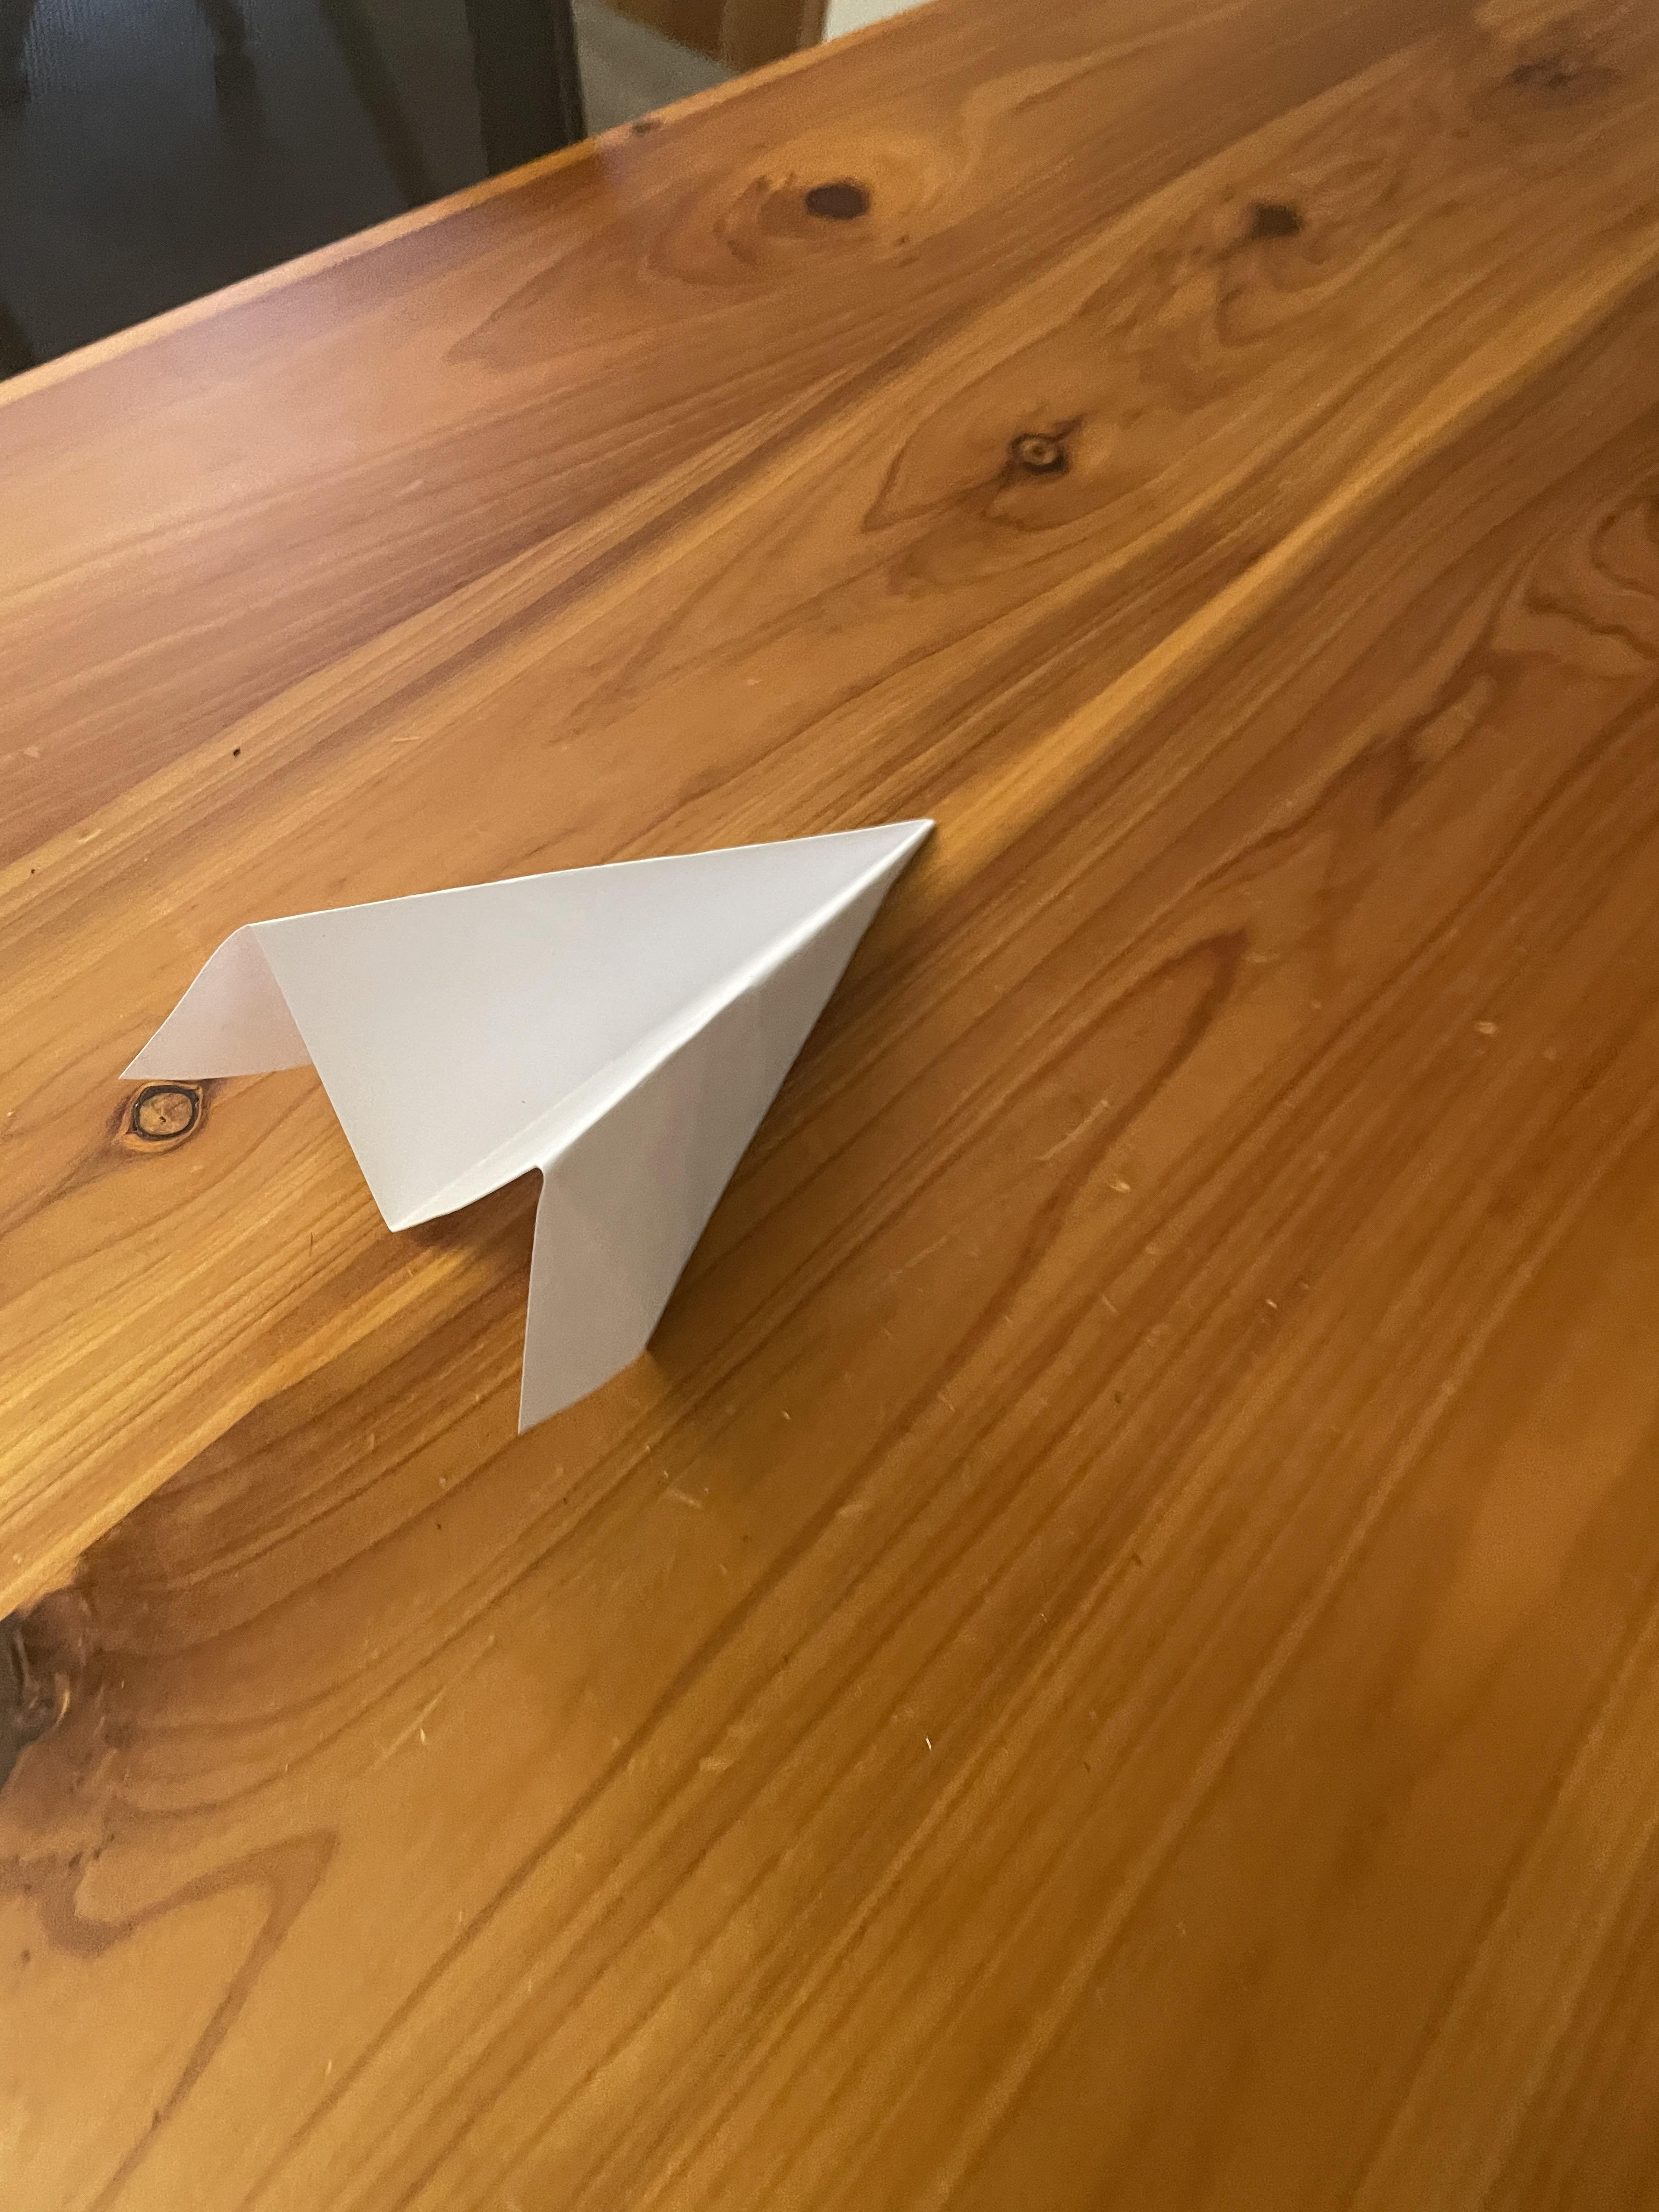shape_3: (105, 686, 1026, 1489)
